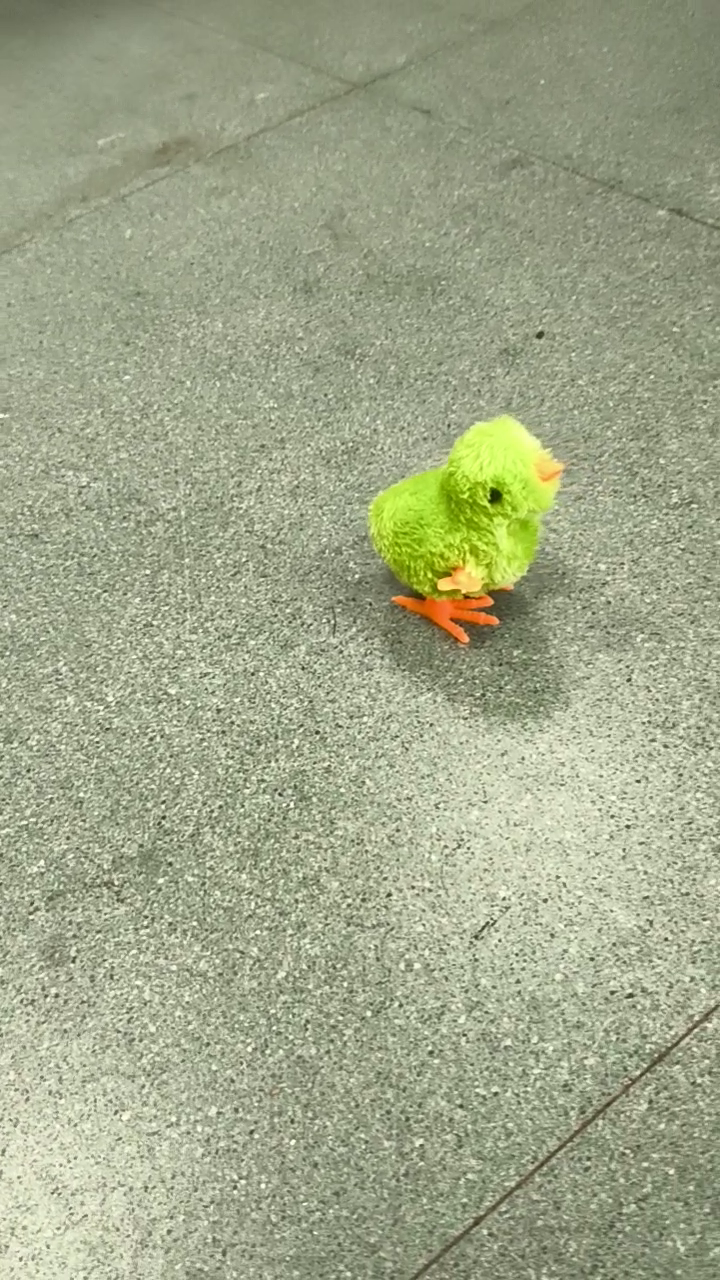green chicken: (363, 410, 574, 652)
